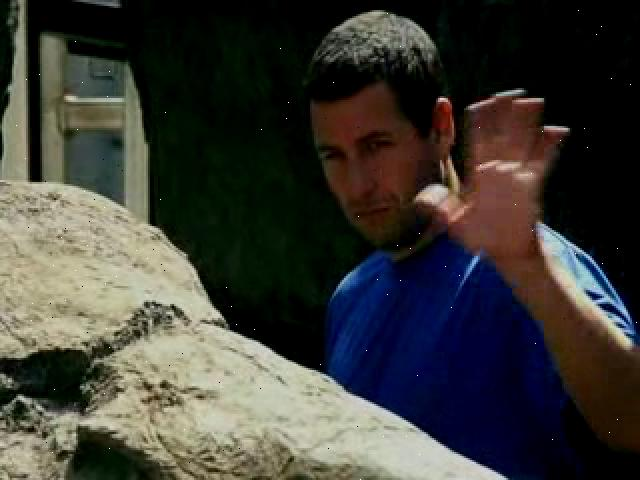L: (288, 1, 640, 480)
